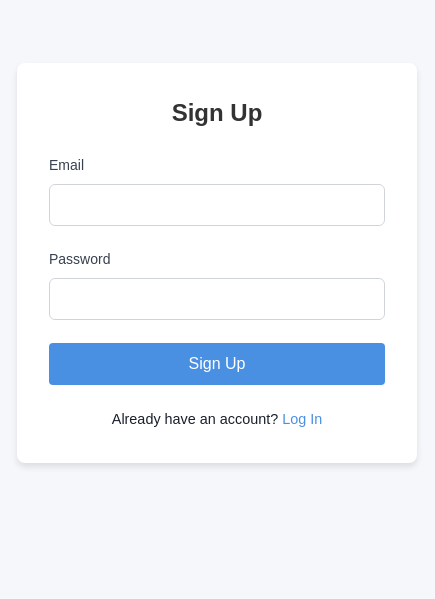
it: SignUp Component › displays validation errors for empty fields
Click the button "Sign Up" at (217, 364), box [49,343,385,385]
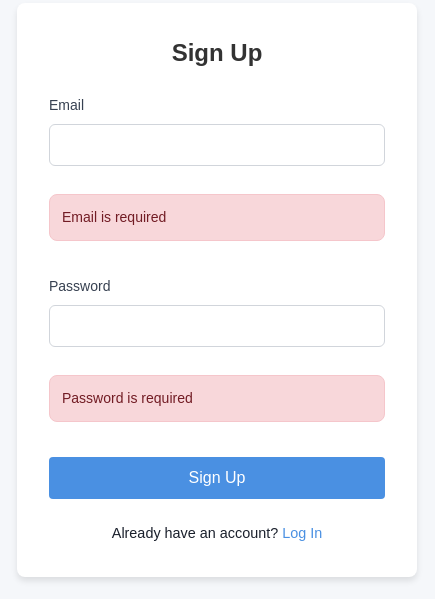
Expected: the text "Email is required" is shown, [49,194,385,241]
Expected: the text "Password is required" is shown, [49,375,385,422]
